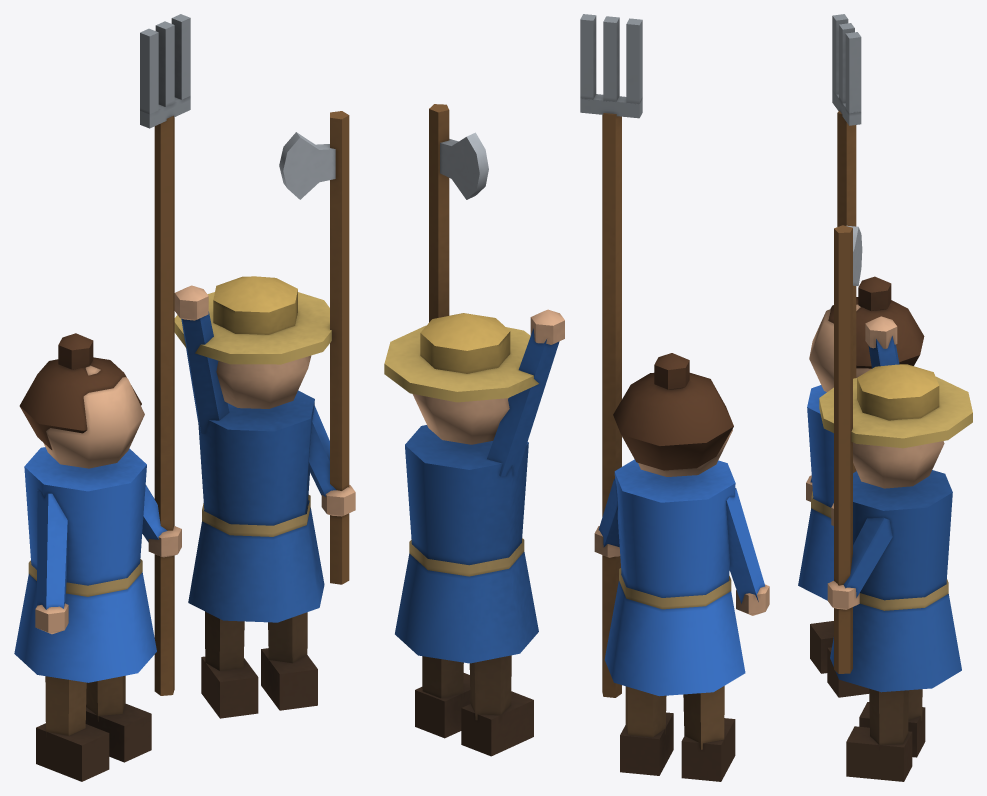
Rendered from sentry_dl1_blue.glb.
3 renders of one model, left to right at view 1: azimuth 30°, elevation 25°; view 2: azimuth 150°, elevation 25°; view 3: azimuth 270°, elevation 25°, orthographic. The views are drawn at different scales.
Visible parts, largest first — view 1: sentry_dl1_blue; view 2: sentry_dl1_blue; view 3: sentry_dl1_blue.
Boxes of the visible parts, x1,y1,x2,y2 form: sentry_dl1_blue: (14,14,355,781); sentry_dl1_blue: (384,14,769,781); sentry_dl1_blue: (798,14,972,781).
Bounding box in the file's own units: 0.3242 × 0.6736 × 0.1571.
Materials: 1 (1 with a texture image).
